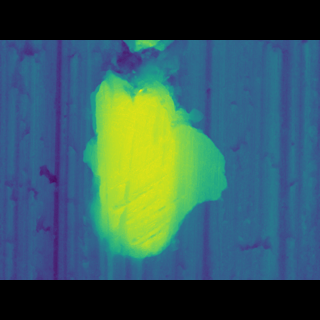Loch: (82, 93, 228, 236)
